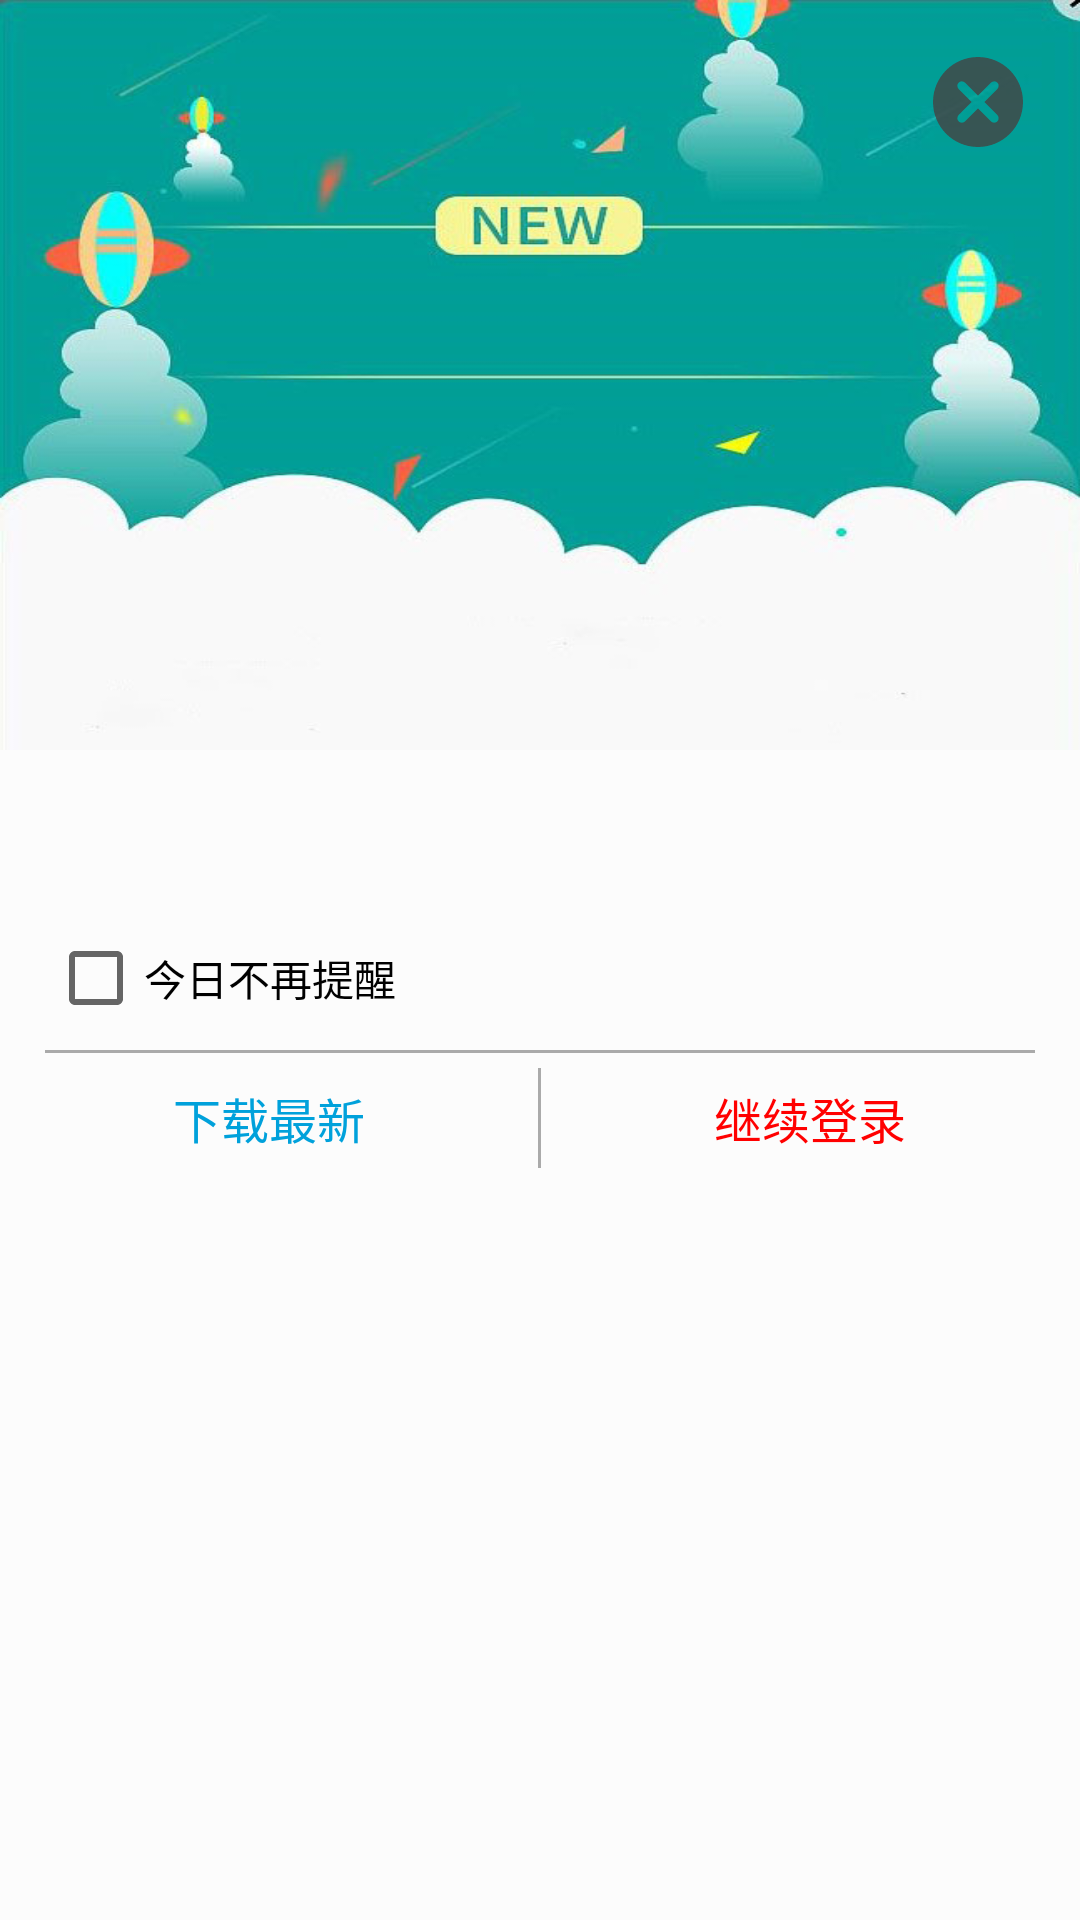

Icons on this 1080*1920 Android screen, each with its box as [left=x1, top=y1, right=x2, bottom=y2]:
cancel: [left=933, top=57, right=1023, bottom=147]
